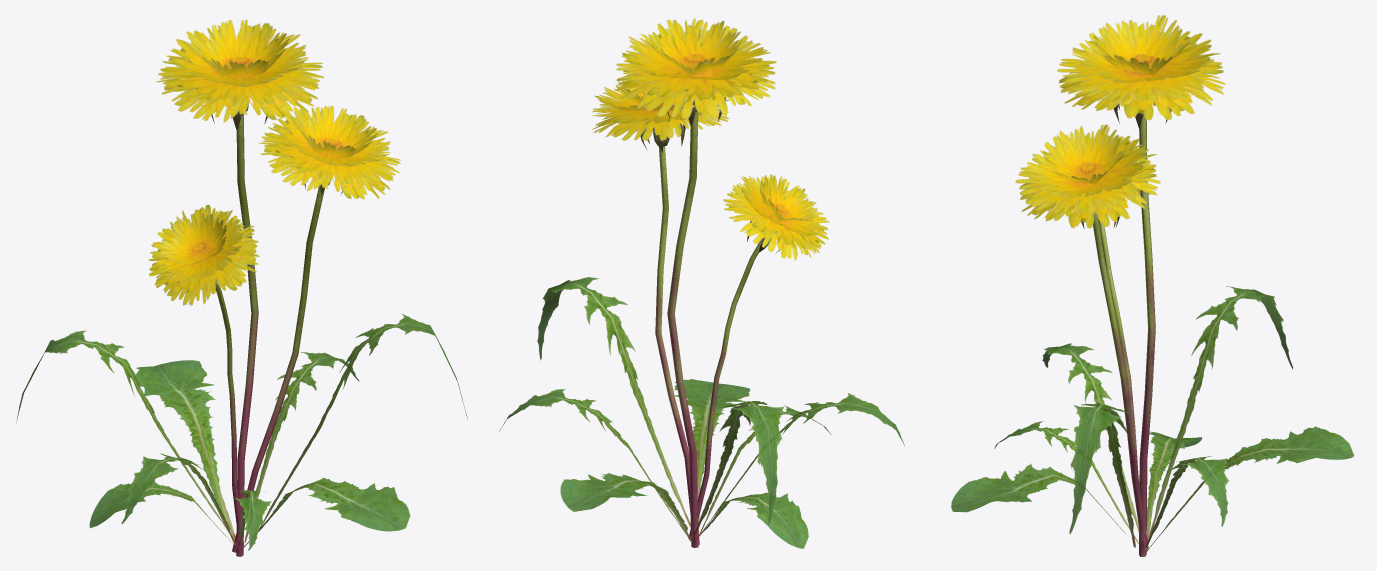
File: dandelion_a.glb
3 views of the same model, side by side, from view 1: azimuth 30°, elevation 25°; view 2: azimuth 150°, elevation 25°; view 3: azimuth 270°, elevation 25° (orthographic).
Parts seen in each view (by area): view 1: dandelion_a; view 2: dandelion_a; view 3: dandelion_a.
Boxes of the visible parts, x1,y1,x2,y2 form: dandelion_a: [16, 19, 467, 556]; dandelion_a: [499, 18, 904, 548]; dandelion_a: [951, 15, 1354, 556].
Size of the model in its own units: 1.6 by 2.2 by 1.65.
Materials: 1 (1 with a texture image).
